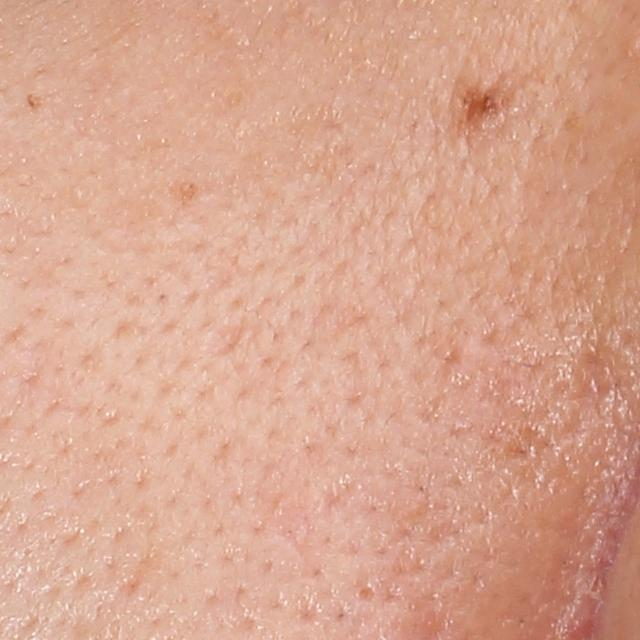comedo: (353, 579, 379, 605)
nevus: (459, 85, 515, 134)
